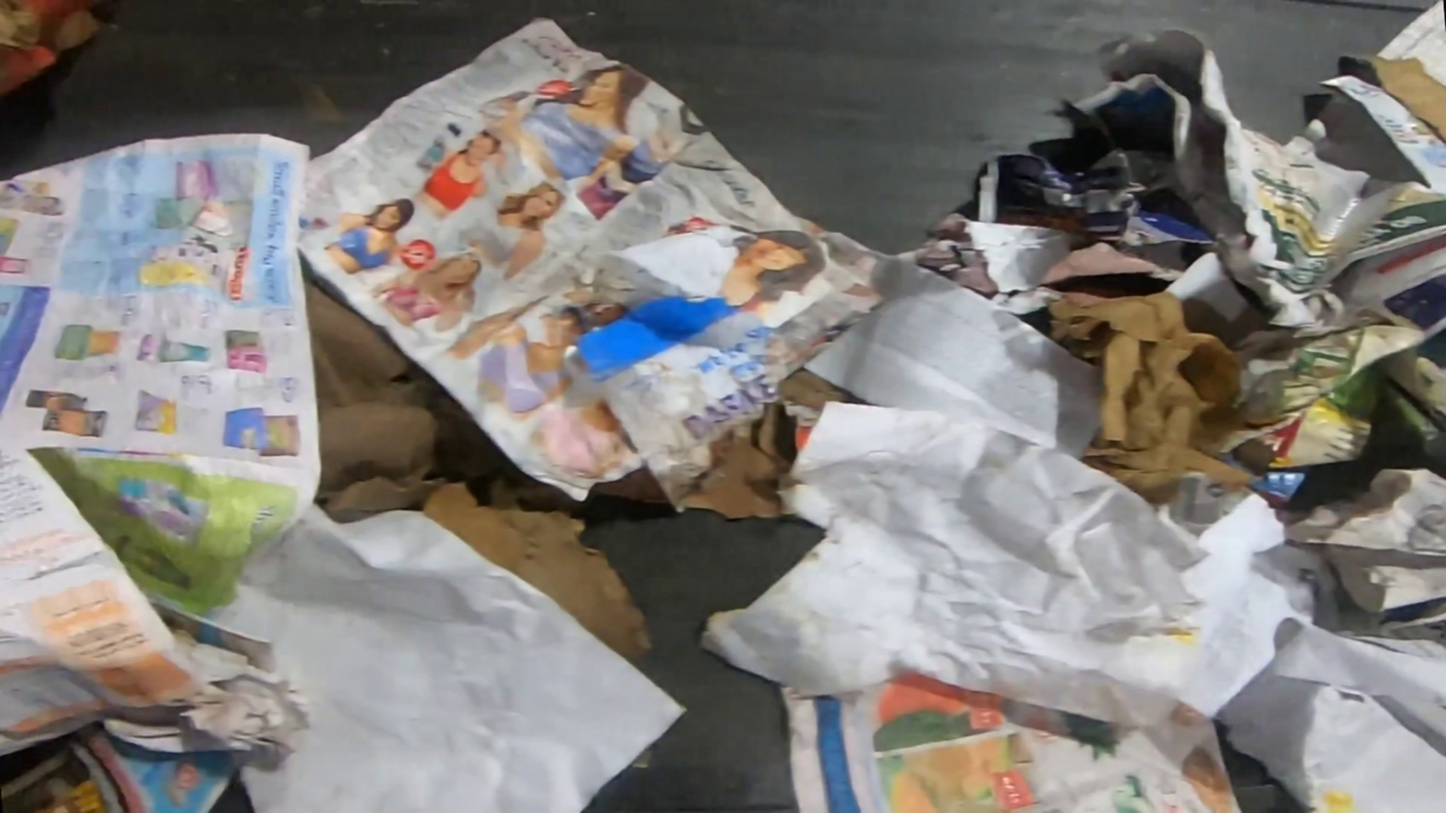cardboard: (1067, 25, 1446, 330), (302, 273, 513, 527), (422, 460, 657, 666), (1043, 288, 1256, 509), (591, 369, 865, 522), (1281, 72, 1446, 196), (1338, 52, 1446, 142)
